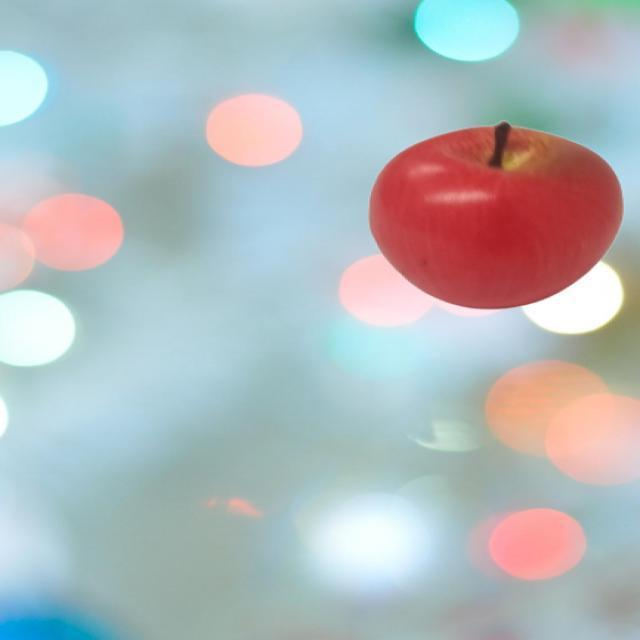apple: (369, 120, 622, 310)
